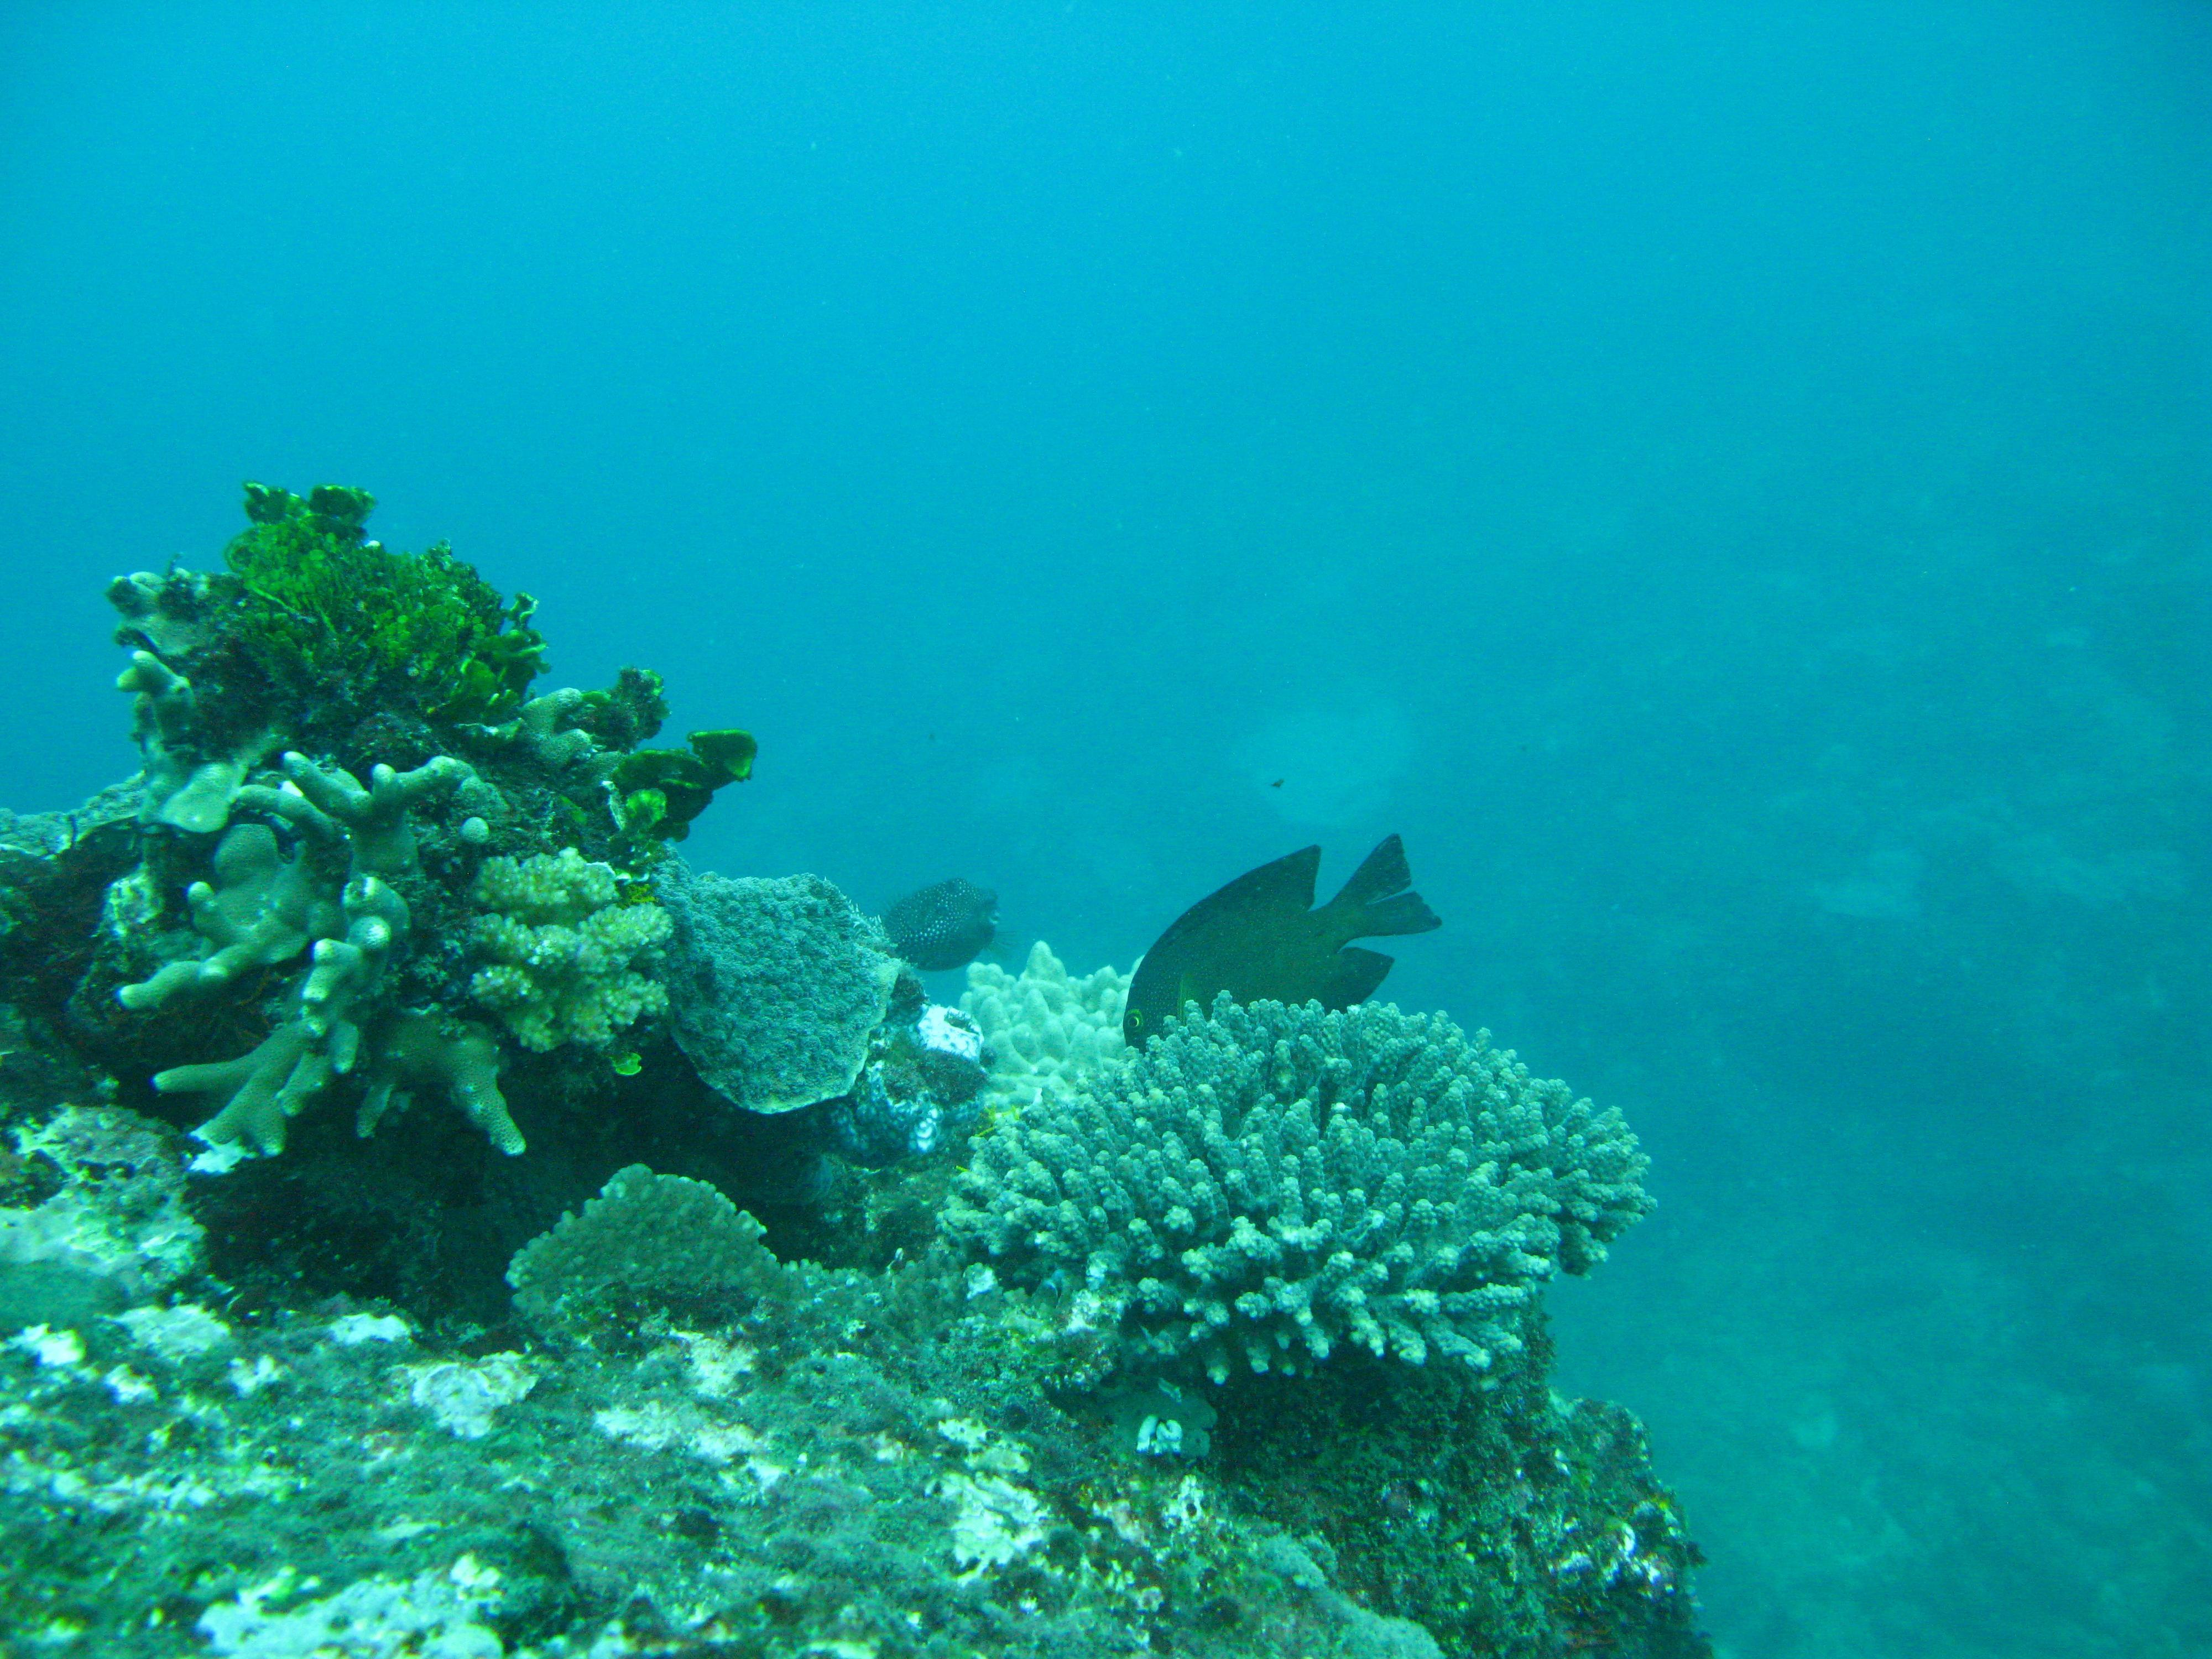Fish: (1015, 800, 1531, 1087)
